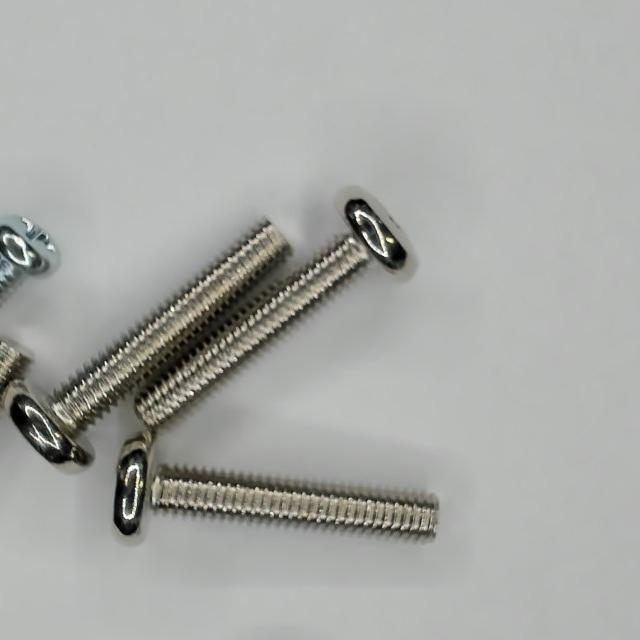Screw: (7, 222, 288, 466), (136, 197, 407, 430), (113, 432, 440, 538), (0, 216, 59, 304)
